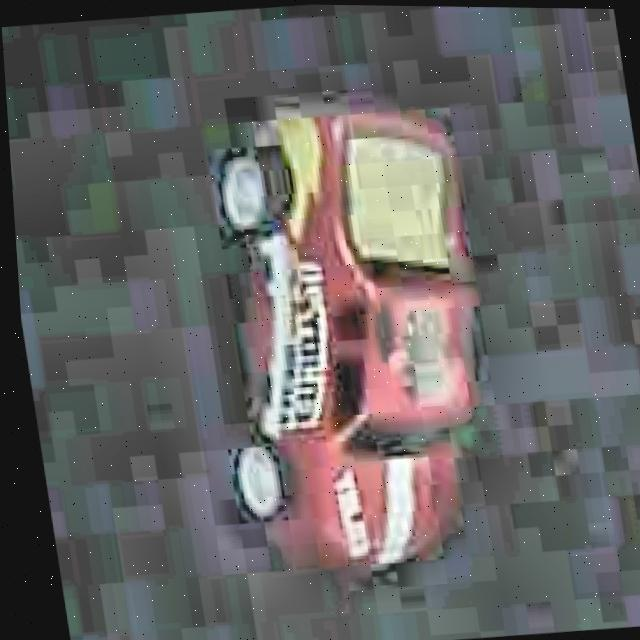car: (171, 79, 531, 596)
